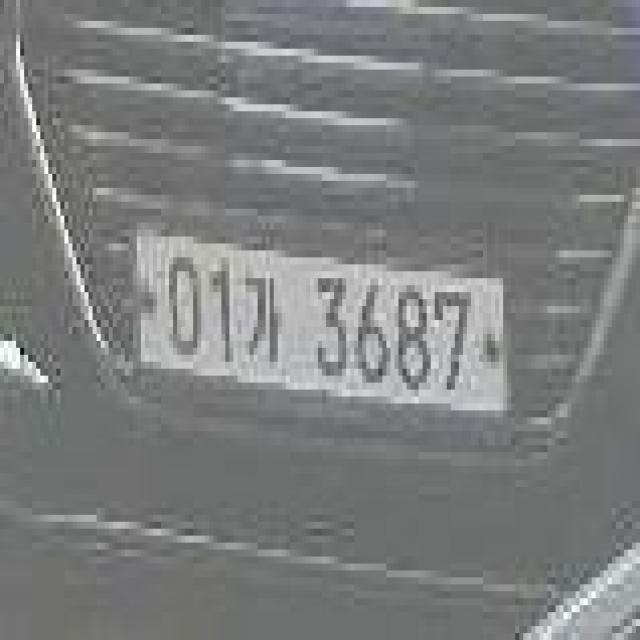illegal_plate: (130, 221, 514, 436)
